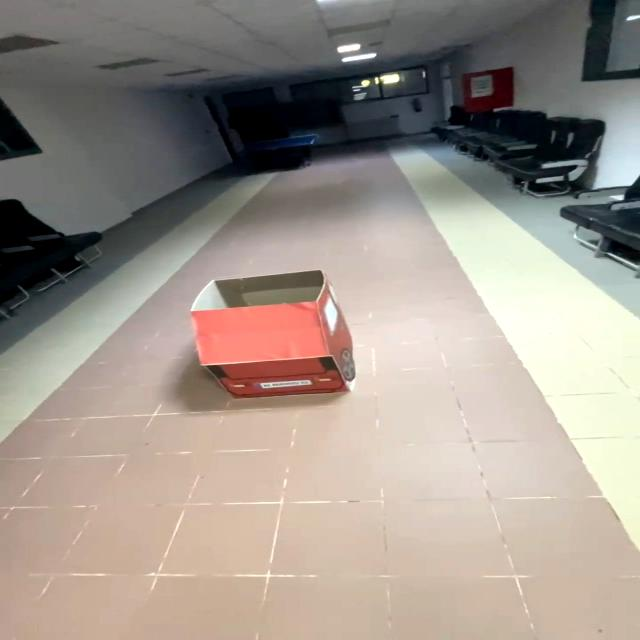red_car: (142, 258, 449, 426)
